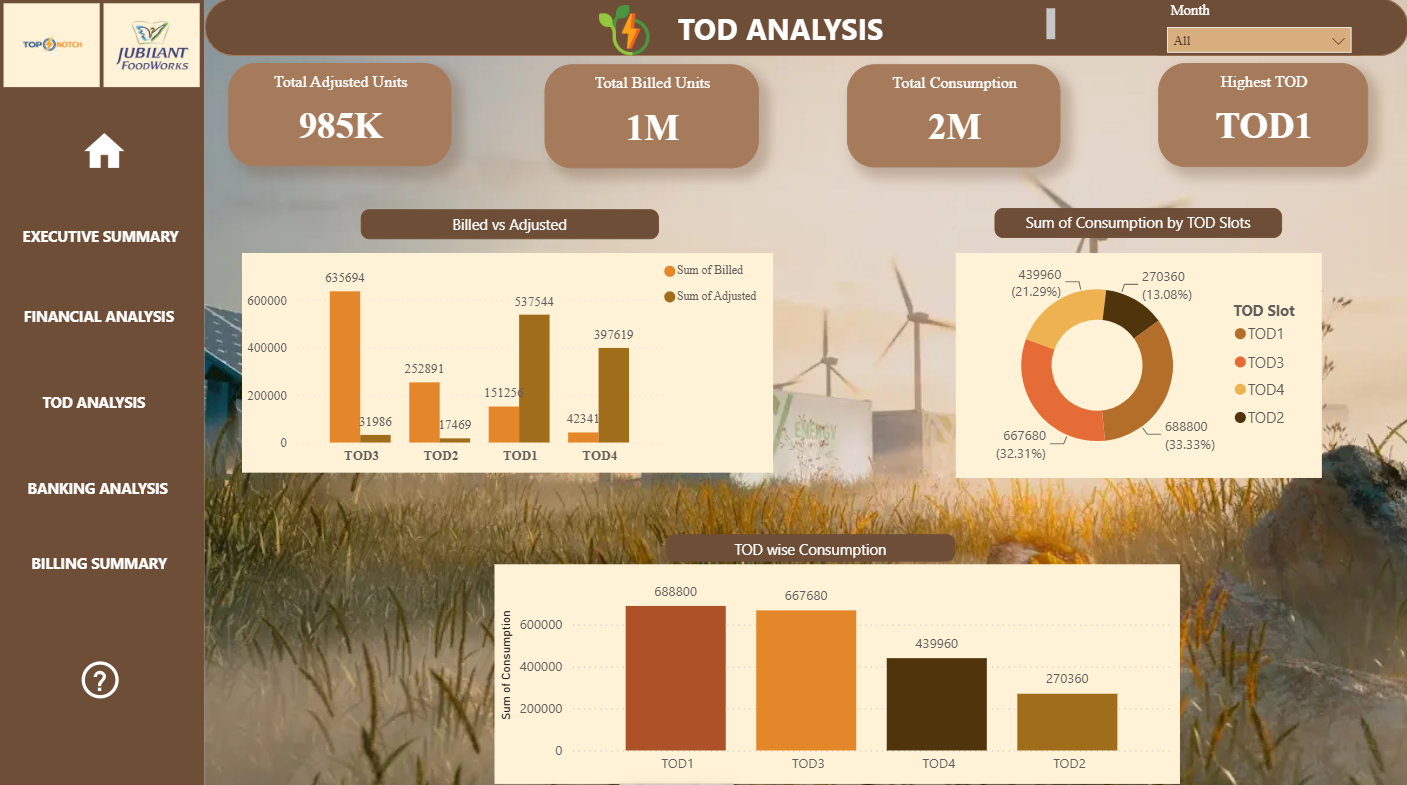

The page's visual inventory and layout, read from the dashboard file:
{"tool":"powerbi","page":{"name":"TOD analysis","canvas":[1280,720],"ordinal":2},"visuals":[{"type":"card","title":"Total Adjusted Units","fields":{"Values":["TOD Consumption.Total Adjusted Units"]},"box":[210,58.8,202.5,93.8],"z":0},{"type":"card","title":"Total Billed Units","fields":{"Values":["TOD Consumption.Total Billed Units"]},"box":[496.5,59.9,194.4,94.2],"z":1000},{"type":"card","title":"Total Consumption","fields":{"Values":["TOD Consumption.Total Consumption"]},"box":[771.2,60,193.8,93.8],"z":2000},{"type":"clusteredColumnChart","title":"Jobs Created with each funding source","fields":{"Y":["Sum(TOD Consumption.Billed)","Sum(TOD Consumption.Adjusted)"],"Category":["TOD Consumption.TOD Slot"]},"box":[222,231.6,481.4,199.1],"z":3000},{"type":"card","title":"Highest TOD","fields":{"Values":["TOD Consumption.Highest TOD"]},"box":[1052.9,58.7,190.8,94.2],"z":4000},{"type":"shape","box":[188,0,1092,52.6],"z":5000},{"type":"textbox","box":[904.9,190.8,260.5,26.9],"z":6000},{"type":"textbox","box":[330.2,192,270.2,26.9],"z":7000},{"type":"slicer","fields":{"Values":["TOD Consumption.Month"]},"box":[1053.4,0,183.4,52.3],"z":8000},{"type":"textbox","box":[463.5,4.9,501.4,41.6],"z":9000},{"type":"image","box":[23.9,0,63.8,58.5],"z":10000},{"type":"shape","box":[0,0,188.3,720.2],"z":11000},{"type":"image","box":[72.5,113.3,50,51.4],"z":12000},{"type":"actionButton","box":[47.7,102.7,100.3,77],"z":13000},{"type":"actionButton","box":[12.5,190.5,164.3,54.3],"z":14000},{"type":"actionButton","box":[13.9,339.1,164.3,54.3],"z":15000},{"type":"actionButton","box":[12.5,486.2,164.3,52.9],"z":16000},{"type":"textbox","box":[17.9,201.9,154.3,32.9],"z":17000},{"type":"textbox","box":[36.5,352.6,117.1,38.6],"z":18000},{"type":"textbox","box":[26.5,499.1,137.1,28.6],"z":19000},{"type":"actionButton","box":[71.1,596.2,50,44.3],"z":20000},{"type":"actionButton","box":[11.1,417.6,164.3,52.9],"z":21000},{"type":"textbox","box":[22.2,430.8,145.7,28.6],"z":22000},{"type":"actionButton","box":[8.1,262.3,165.3,54.3],"z":23000},{"type":"textbox","box":[19.3,274.4,151.4,38.6],"z":24000},{"type":"image","box":[1.2,0,96.6,85.6],"z":25000},{"type":"image","box":[91.4,0,97.1,85.7],"z":26000},{"type":"textbox","box":[606.2,486.2,262.5,25],"z":27000},{"type":"donutChart","fields":{"Category":["TOD Consumption.TOD Slot"],"Y":["Sum(TOD Consumption.Consumption)"]},"box":[869.8,231.6,331.8,203.9],"z":28000},{"type":"clusteredColumnChart","fields":{"Category":["TOD Consumption.TOD Slot"],"Y":["Sum(TOD Consumption.Consumption)"]},"box":[451.2,513.9,621.3,199.1],"z":29000},{"type":"image","box":[537.1,0,62.9,58.6],"z":34000}]}

Visuals, with their boxes in screenshot pixels (x1, y1, x2, y2), scaled from the page's 1280x720 canvas onto the 1407x785 screenshot:
"Total Adjusted Units" card: bbox=[231, 64, 453, 166]
"Total Billed Units" card: bbox=[546, 65, 759, 168]
"Total Consumption" card: bbox=[848, 65, 1061, 168]
"Jobs Created with each funding source" clusteredColumnChart: bbox=[244, 253, 773, 470]
"Highest TOD" card: bbox=[1157, 64, 1367, 167]
shape: bbox=[207, 0, 1406, 57]
textbox: bbox=[995, 208, 1281, 237]
textbox: bbox=[363, 209, 660, 239]
slicer - TOD Consumption.Month: bbox=[1158, 0, 1360, 57]
textbox: bbox=[509, 5, 1061, 51]
image: bbox=[26, 0, 96, 64]
shape: bbox=[0, 0, 207, 784]
image: bbox=[80, 124, 135, 180]
actionButton: bbox=[52, 112, 163, 196]
actionButton: bbox=[14, 208, 194, 267]
actionButton: bbox=[15, 370, 196, 429]
actionButton: bbox=[14, 530, 194, 588]
textbox: bbox=[20, 220, 189, 256]
textbox: bbox=[40, 384, 169, 427]
textbox: bbox=[29, 544, 180, 575]
actionButton: bbox=[78, 650, 133, 698]
actionButton: bbox=[12, 455, 193, 513]
textbox: bbox=[24, 470, 185, 501]
actionButton: bbox=[9, 286, 191, 345]
textbox: bbox=[21, 299, 188, 341]
image: bbox=[1, 0, 108, 93]
image: bbox=[100, 0, 207, 93]
textbox: bbox=[666, 530, 955, 557]
donutChart - TOD Consumption.TOD Slot x Sum(TOD Consumption.Consumption): bbox=[956, 253, 1321, 475]
clusteredColumnChart - TOD Consumption.TOD Slot x Sum(TOD Consumption.Consumption): bbox=[496, 560, 1179, 777]
image: bbox=[590, 0, 660, 64]
